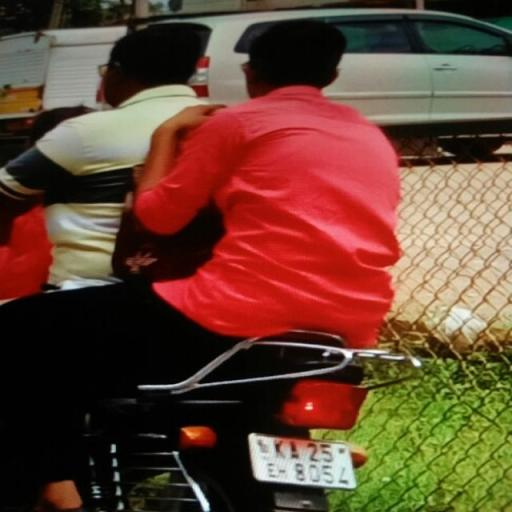bike: (0, 10, 409, 512)
numberplate: (253, 436, 360, 488)
withouthelmet: (248, 24, 342, 91), (109, 24, 208, 87)
